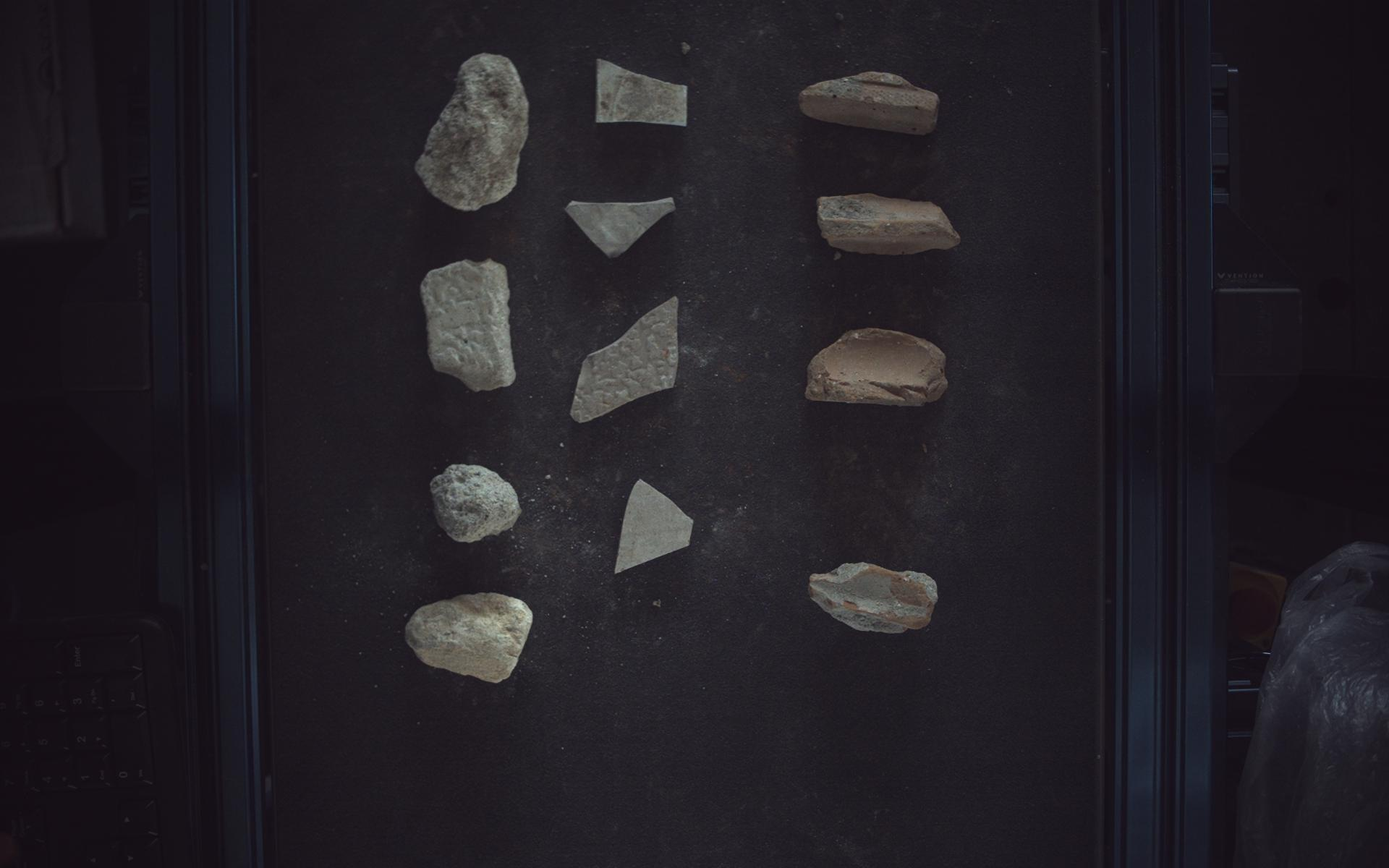brick: (807, 328, 950, 406), (810, 563, 940, 634), (820, 192, 962, 255), (801, 70, 940, 134)
concrete: (415, 52, 529, 210), (420, 258, 516, 391), (405, 594, 533, 684), (430, 464, 521, 543)
tile: (572, 296, 679, 422), (616, 480, 693, 574), (566, 197, 676, 258), (596, 59, 688, 125)
